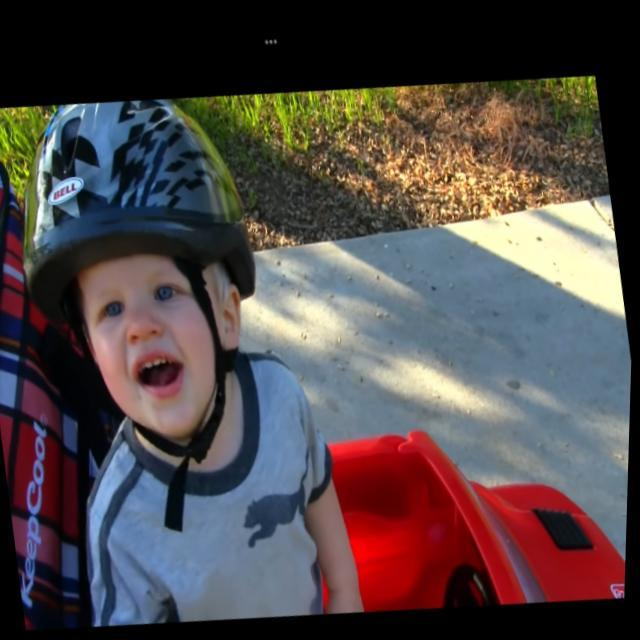Helmet: (26, 108, 275, 454)
